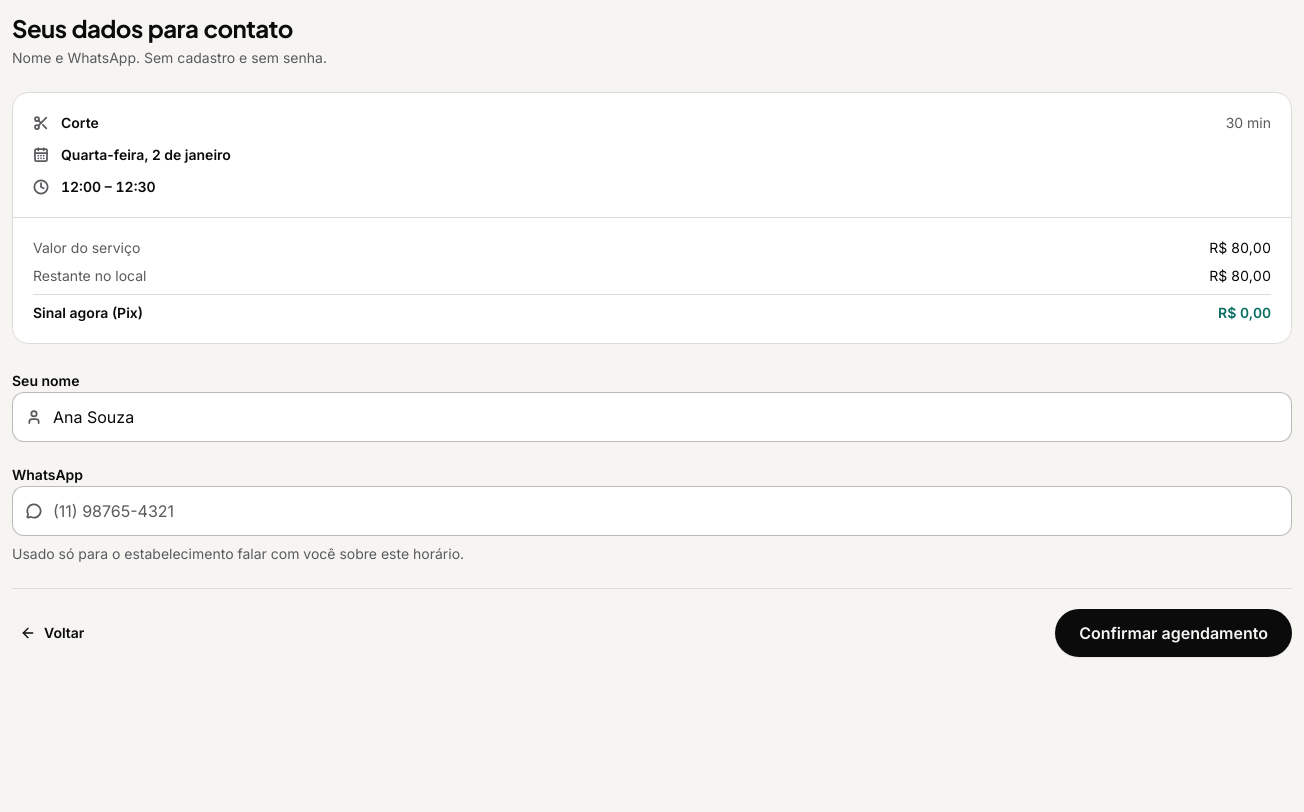
Test case: WhatsApp do agendamento › só avisa quando o número ainda está curto
Type "14999" into the field labelled "WhatsApp".
click(652, 511); type("14999")  # box [13,487,1291,535]
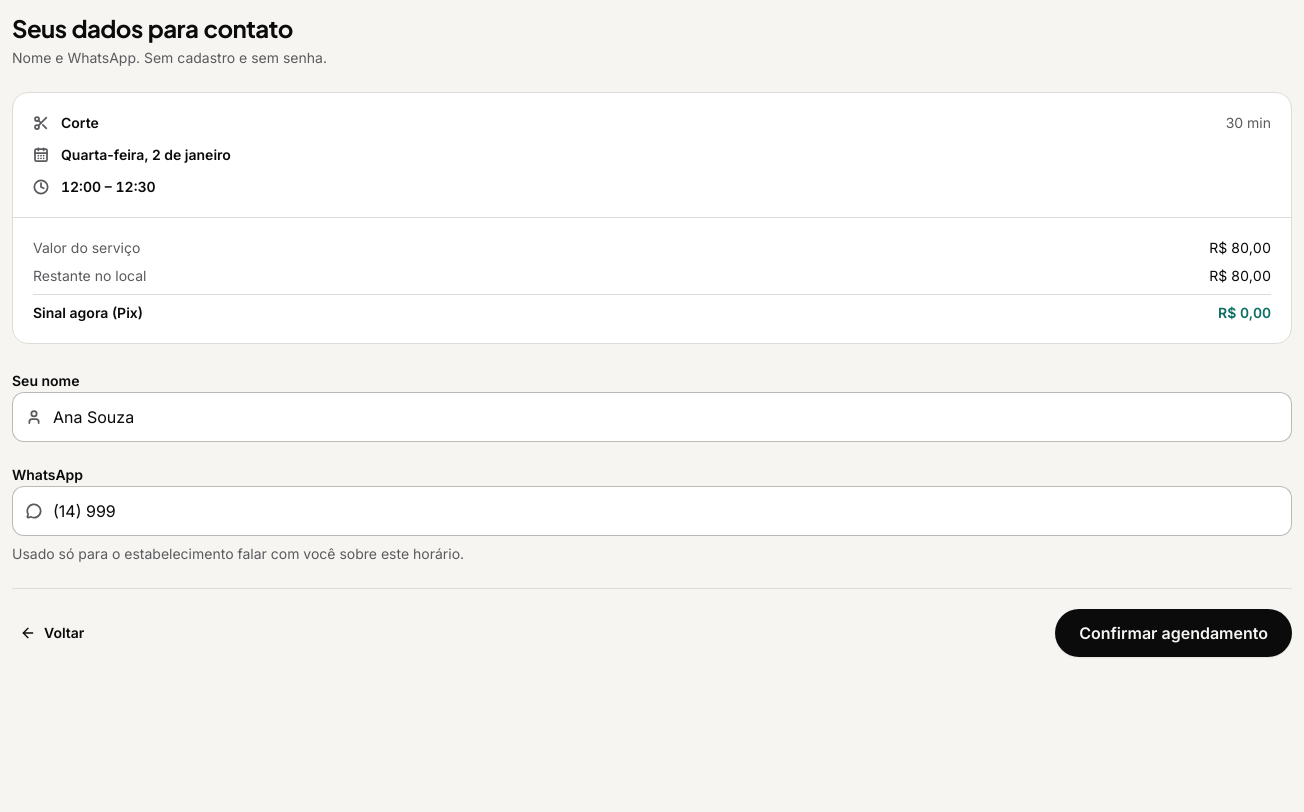
Click the button "Confirmar agendamento".
click(1174, 633)  # box [1055,609,1292,657]
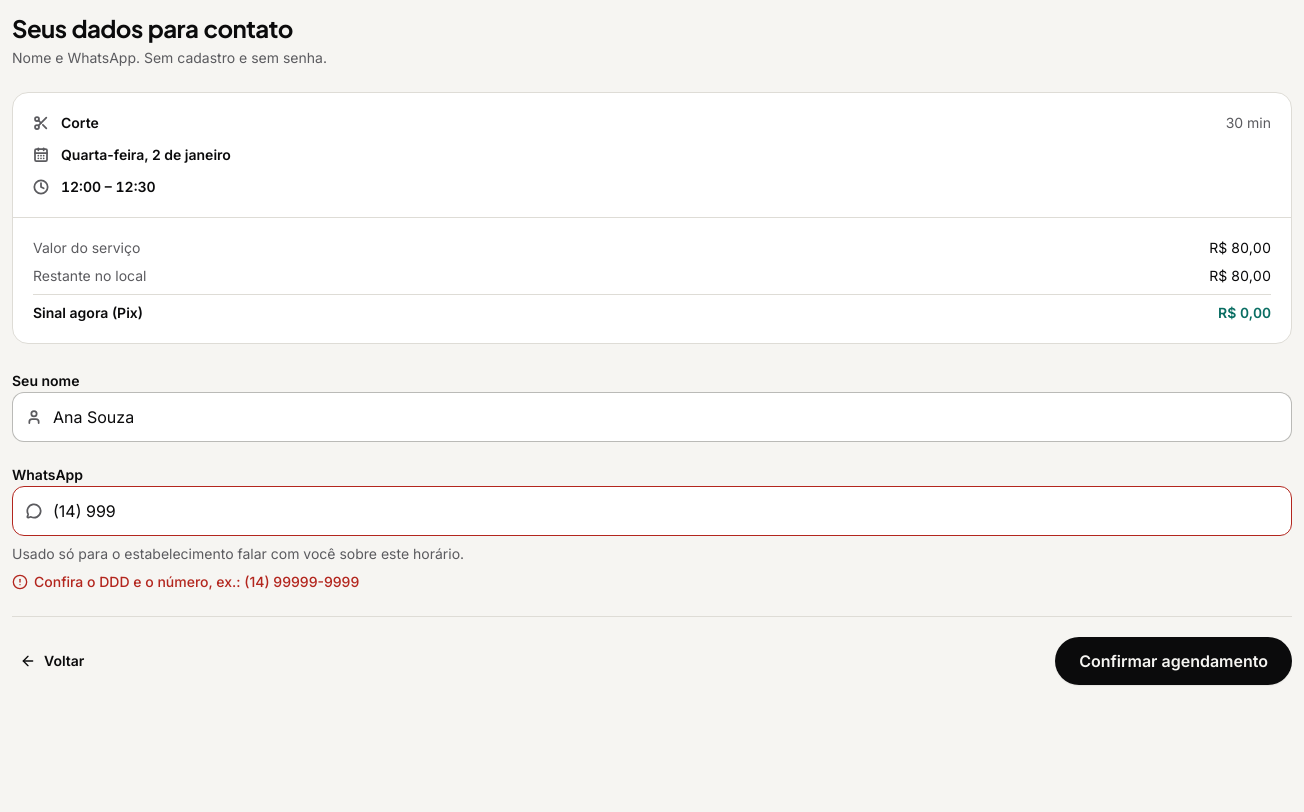
expect the text "Confira o DDD e o número, ex.: (14) 99999-9999" is shown: met, box [34,572,359,592]
